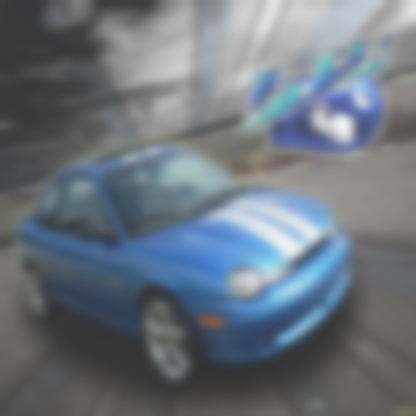Vehicle: (14, 141, 353, 394)
